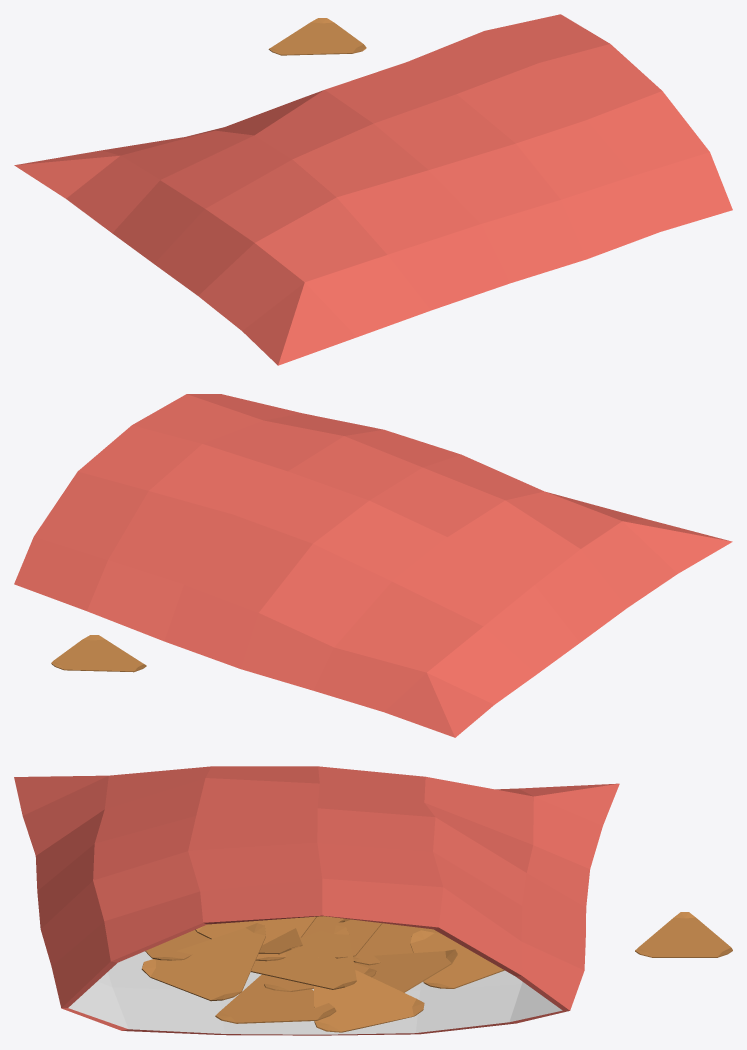
Rendered from CrispPacket.fbx.
3 renders of one model, top to bottom at view 1: azimuth 30°, elevation 25°; view 2: azimuth 150°, elevation 25°; view 3: azimuth 270°, elevation 25°, orthographic. The views are drawn at different scales.
Visible parts, largest first — view 1: Plane.001, Plane.005; view 2: Plane.001, Plane.005; view 3: Plane.001, Plane.003, Plane.004, Plane.002, Plane.006, Plane.005.
Boxes of the visible parts, bbox=[...] form: Plane.001: bbox=[14, 14, 732, 365]; Plane.005: bbox=[268, 18, 366, 55]; Plane.001: bbox=[14, 394, 732, 737]; Plane.005: bbox=[51, 635, 146, 672]; Plane.001: bbox=[14, 766, 619, 1035]; Plane.003: bbox=[215, 963, 424, 1032]; Plane.004: bbox=[141, 916, 316, 1001]; Plane.002: bbox=[353, 923, 504, 992]; Plane.006: bbox=[251, 916, 382, 989]; Plane.005: bbox=[635, 912, 732, 957].
Bounding box in the file's own units: 2497 × 558 × 2913.
